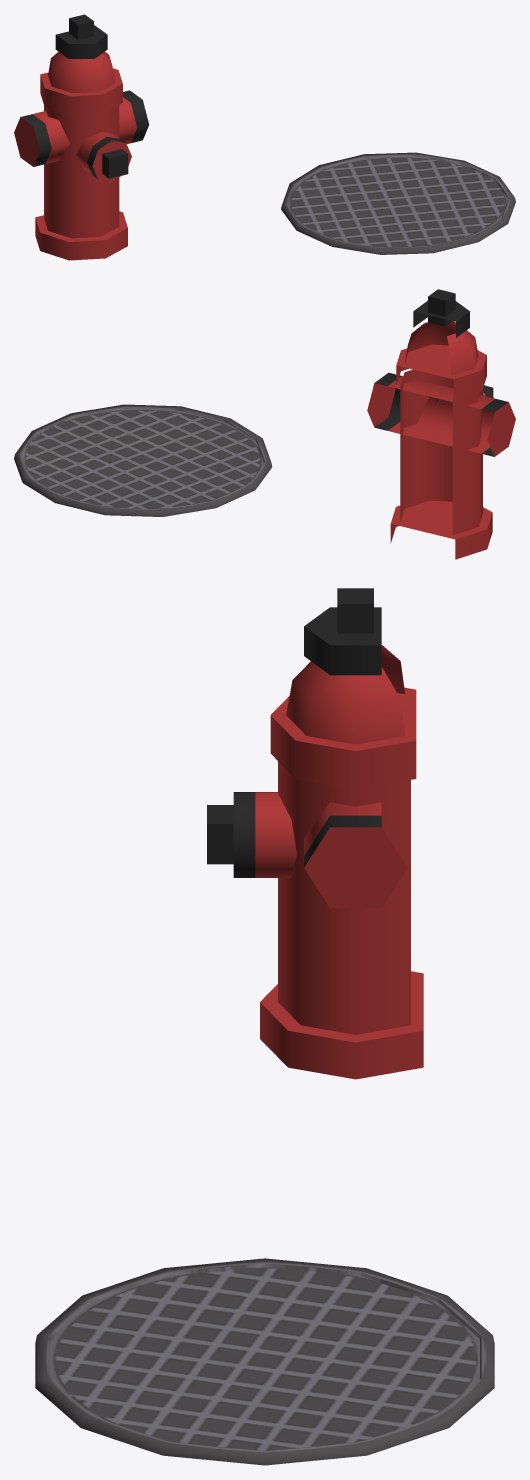
The model's file is interior_G_006.fbx.
The picture shows the model from 3 angles, top to bottom: view 1: azimuth 30°, elevation 25°; view 2: azimuth 150°, elevation 25°; view 3: azimuth 270°, elevation 25°; orthographic projection. The views are drawn at different scales.
Parts seen in each view (by area): view 1: interior_G_006; view 2: interior_G_006; view 3: interior_G_006.
Boxes of the visible parts, x1,y1,x2,y2 form: interior_G_006: (14, 14, 515, 260); interior_G_006: (14, 289, 515, 559); interior_G_006: (35, 588, 494, 1465).
Size of the model in its own units: 149 by 76.01 by 65.6.
Materials: 3 (1 with a texture image).
